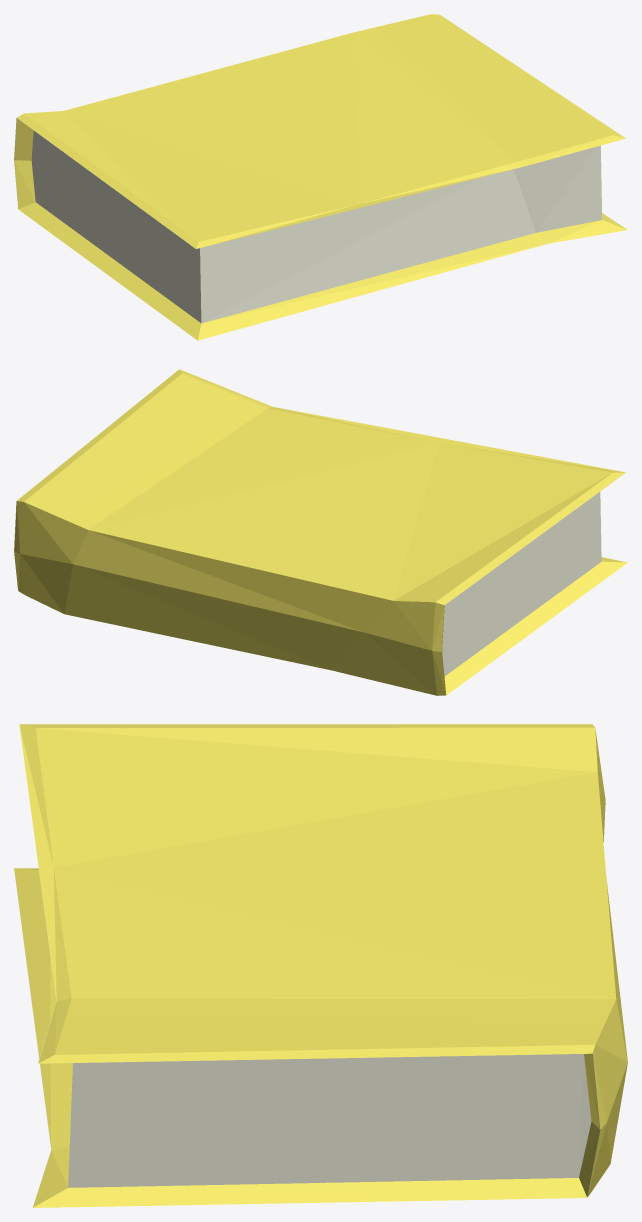
Rendered from Libro giallo.fbx.
3 renders of one model, top to bottom at view 1: azimuth 30°, elevation 25°; view 2: azimuth 150°, elevation 25°; view 3: azimuth 270°, elevation 25°, orthographic. The views are drawn at different scales.
Parts seen in each view (by area): view 1: Cube.001; view 2: Cube.001; view 3: Cube.001.
Part boxes in pixels (<box>): Cube.001: <box>14,14,627,340</box>; Cube.001: <box>14,369,627,695</box>; Cube.001: <box>14,724,627,1207</box>.
Size of the model in its own units: 206 by 43.63 by 157.
